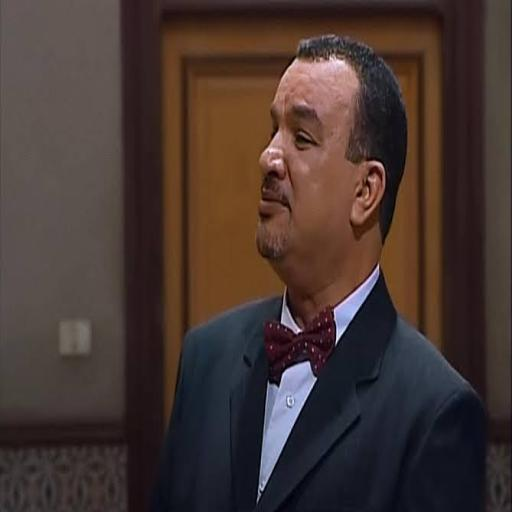slimane: (257, 50, 383, 295)
